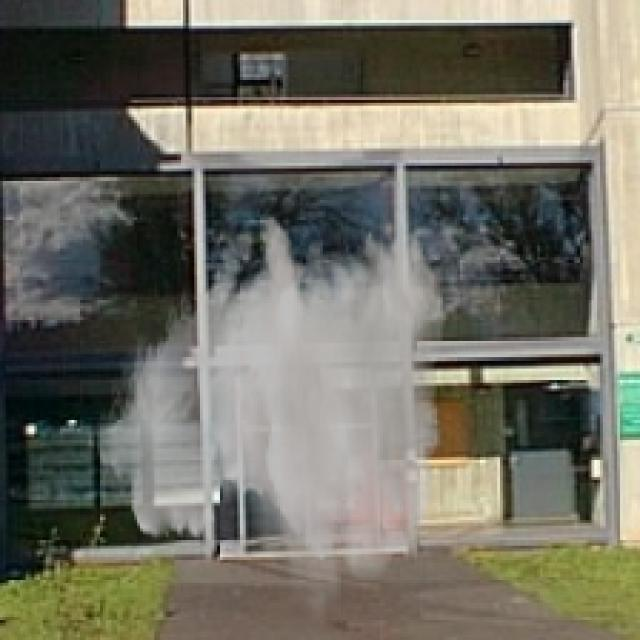Smoke: (86, 212, 446, 628)
